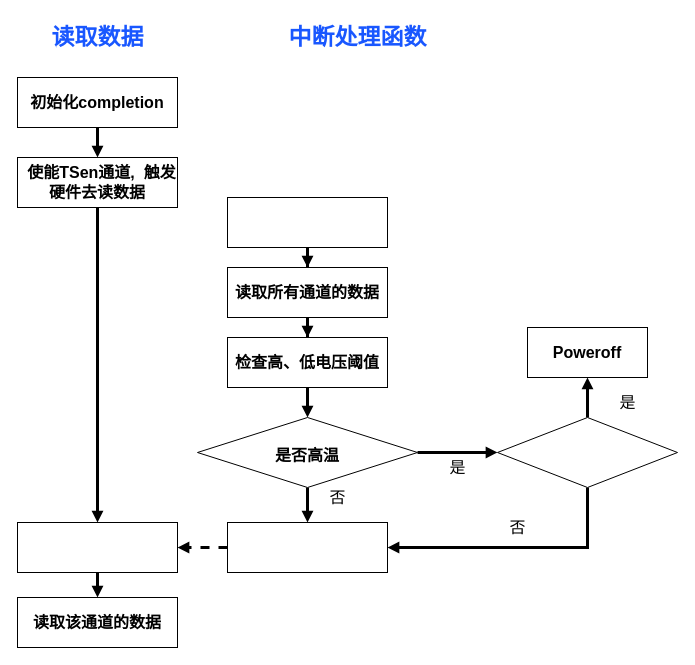
This 695x665 diagram has some shape labels left out. Each missing label, with the centre of its shape:
"有中断产生" belongs at pixel 307 222.
"等待completion" belongs at pixel 97 547.
"通知completion" belongs at pixel 307 547.
"高温告警是否使能？" belongs at pixel 587 452.
